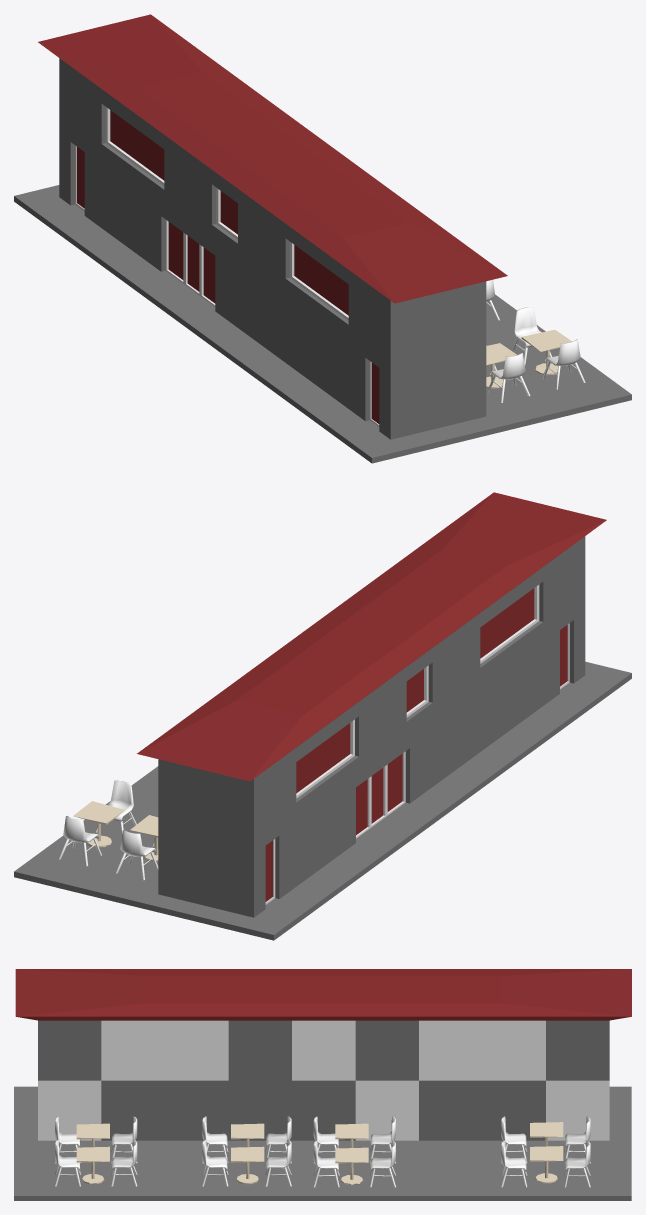
The model's file is PierCaffe.fbx.
The picture shows the model from 3 angles, top to bottom: view 1: azimuth 30°, elevation 25°; view 2: azimuth 150°, elevation 25°; view 3: azimuth 270°, elevation 25°; orthographic projection. The views are drawn at different scales.
Parts seen in each view (by area): view 1: Cube.111, Plane.039, Plane.112, Circle.031; view 2: Cube.111, Plane.039, Plane.112, Circle.031; view 3: Cube.111, Plane.039, Plane.112, Circle.031.
Boxes of the visible parts, x1,y1,x2,y2 form: Cube.111: (38,14,507,439); Plane.039: (14,185,631,463); Plane.112: (486,279,585,402); Circle.031: (486,329,571,388); Cube.111: (137,492,606,917); Plane.039: (14,661,631,940); Plane.112: (58,780,158,880); Circle.031: (73,801,158,861); Cube.111: (15,969,631,1140); Plane.039: (14,1086,631,1200); Plane.112: (54,1116,590,1187); Circle.031: (76,1122,563,1185).
Size of the model in its own units: 0.6936 by 0.4015 by 1.66.
